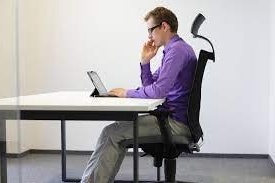not_fallen: (69, 3, 201, 183)
